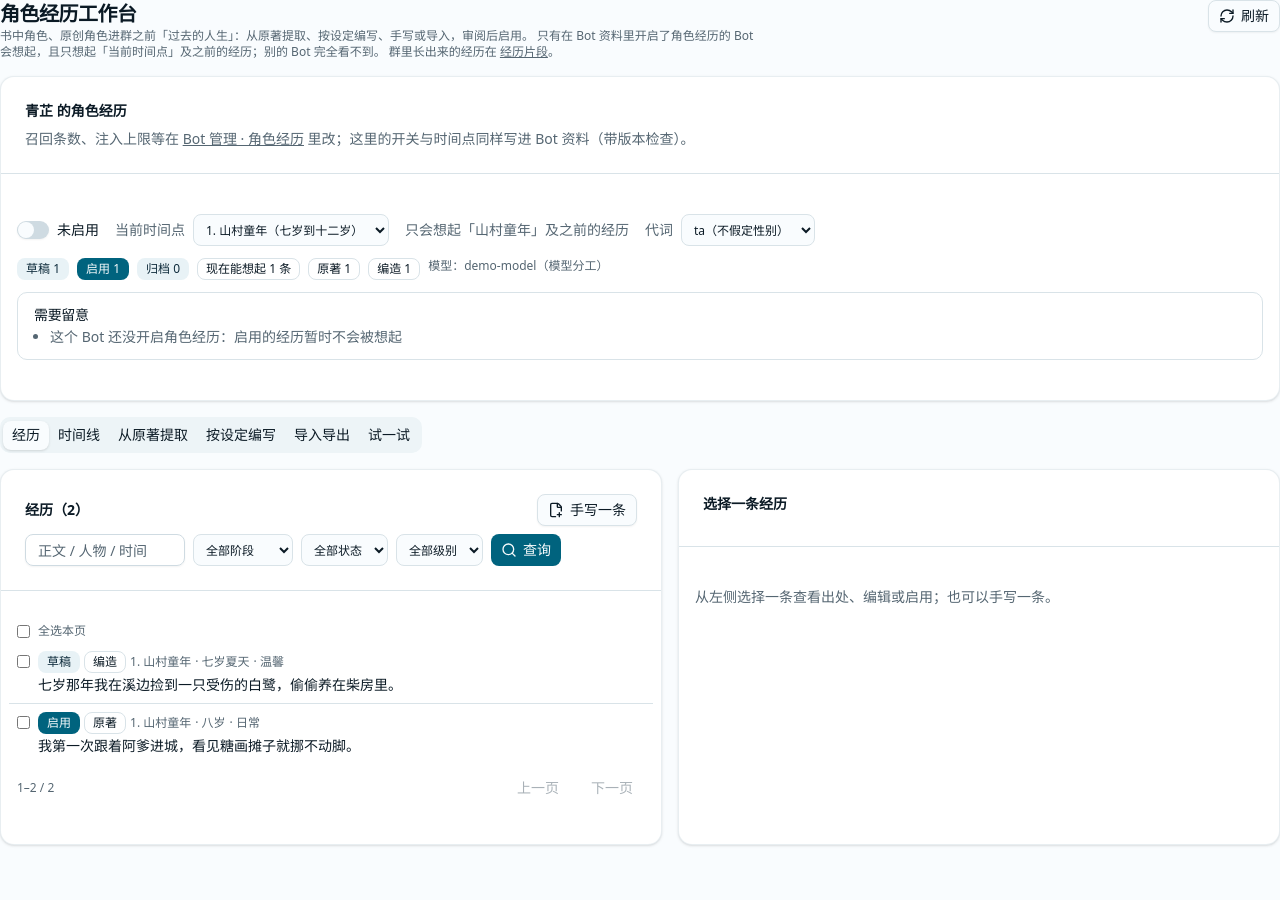
Test: CharacterExperienceWorkbenchPage › 开始时计划变了（409）：换成新计划，要重新确认
The width and height of the screenshot is (1280, 900).
Click the tab "从原著提取" at (153, 435), box x1=109 y1=420 x2=197 y2=450
(page scrolled)
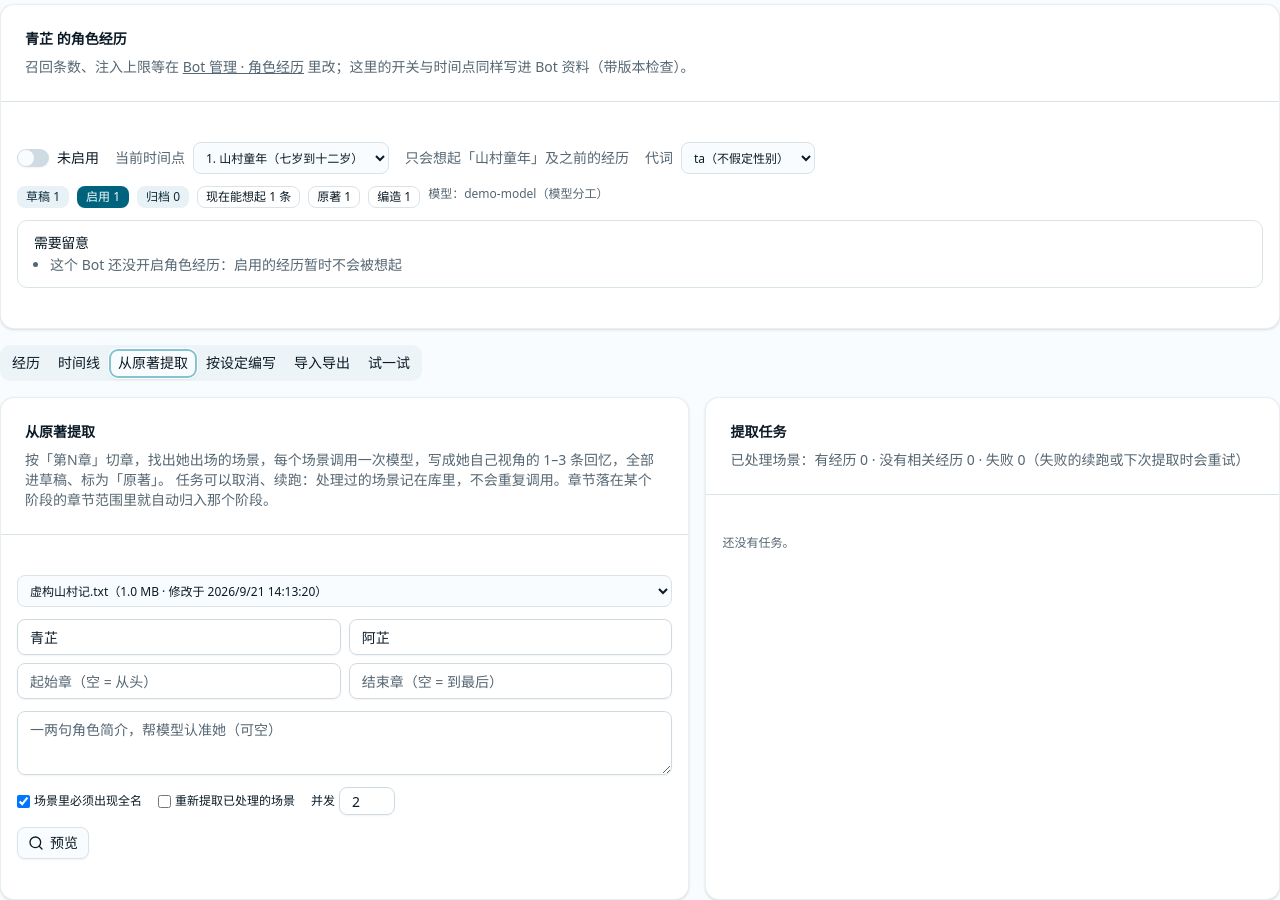
Click the button "预览" at (53, 843), box x1=17 y1=827 x2=89 y2=859
(page scrolled)
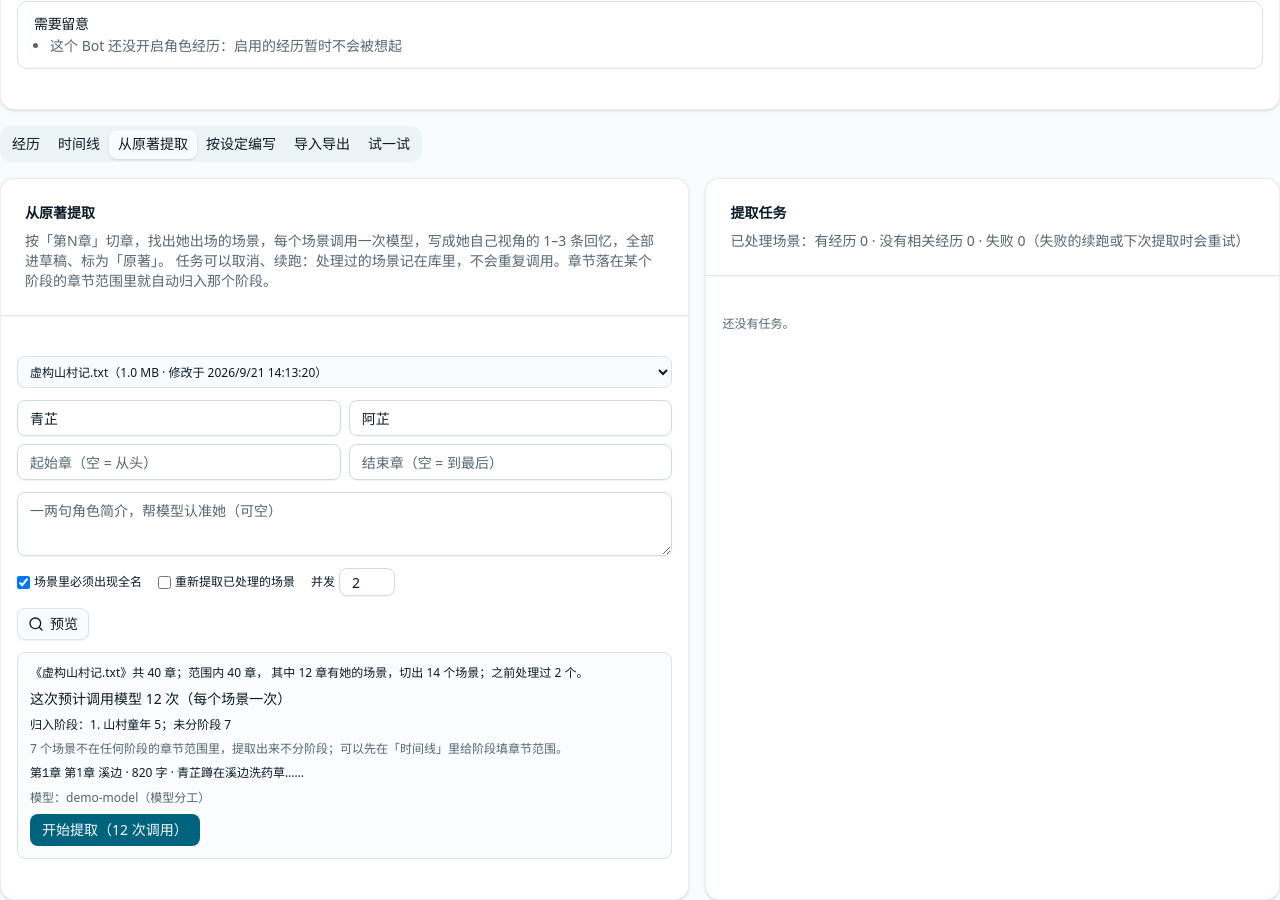
Click the button "开始提取（12 次调用）" at (115, 830), box x1=30 y1=814 x2=200 y2=846
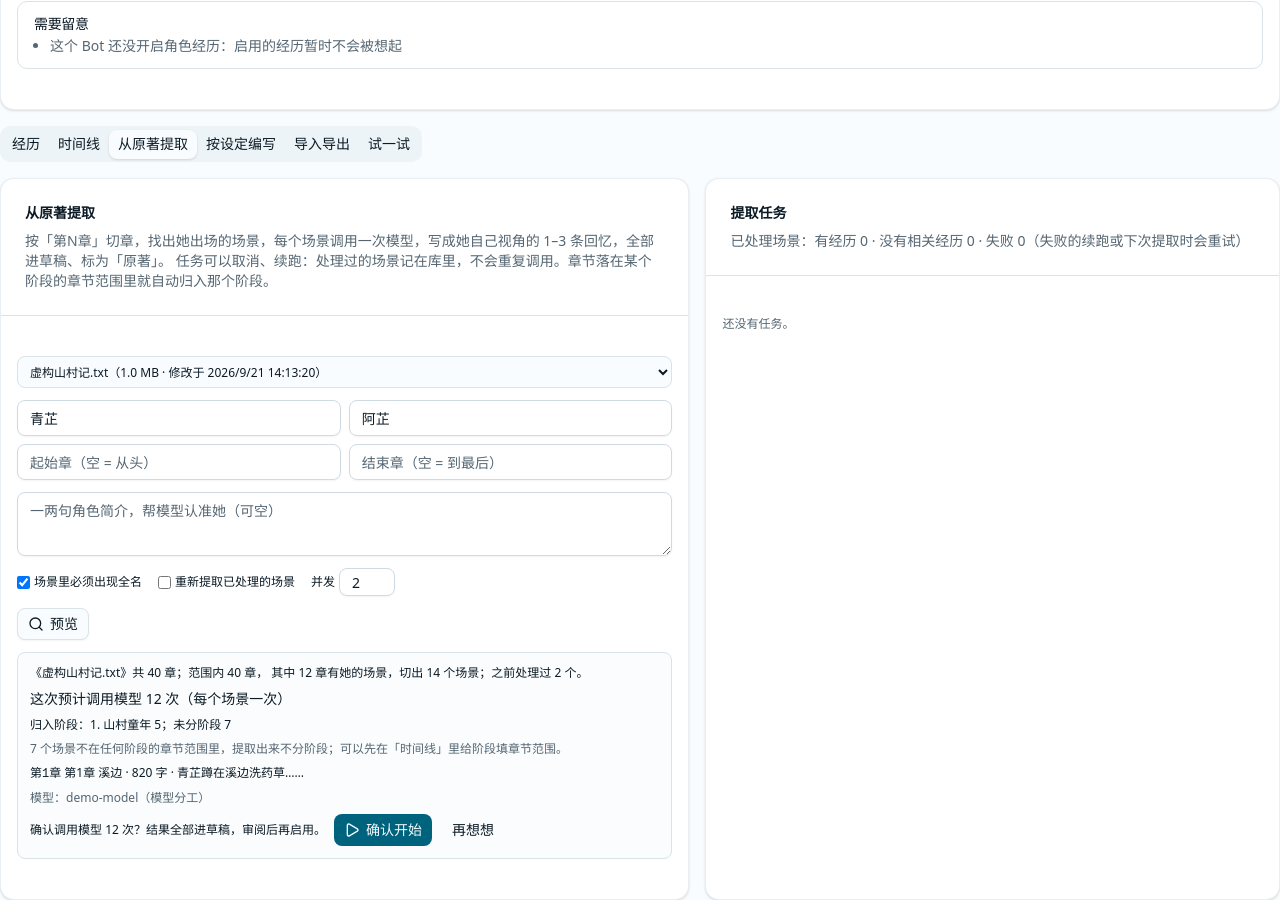
Click the button "确认开始" at (383, 830), box x1=334 y1=814 x2=432 y2=846
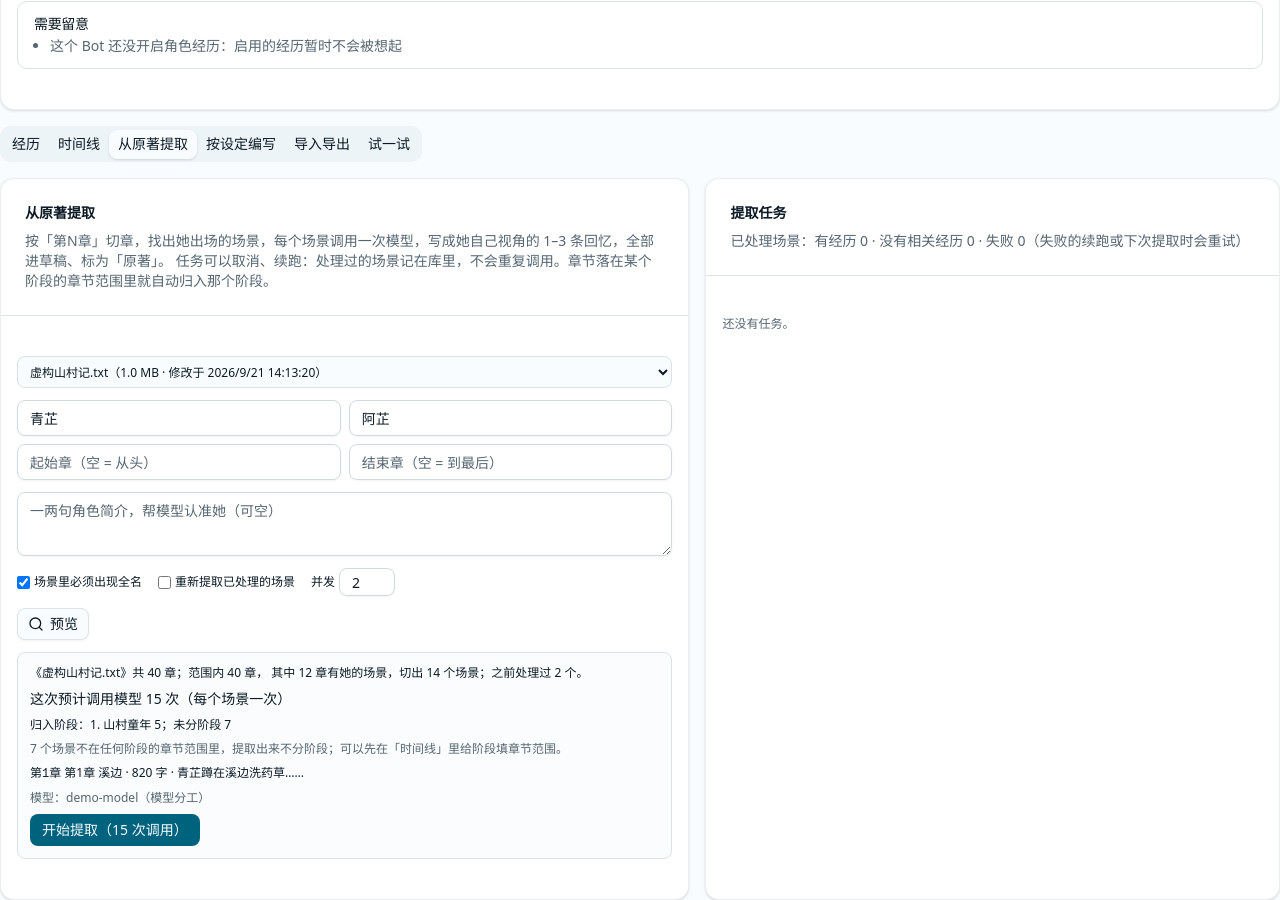
Now the text "这次预计调用模型 15 次（每个场景一次）" is shown, box x1=30 y1=689 x2=291 y2=708
